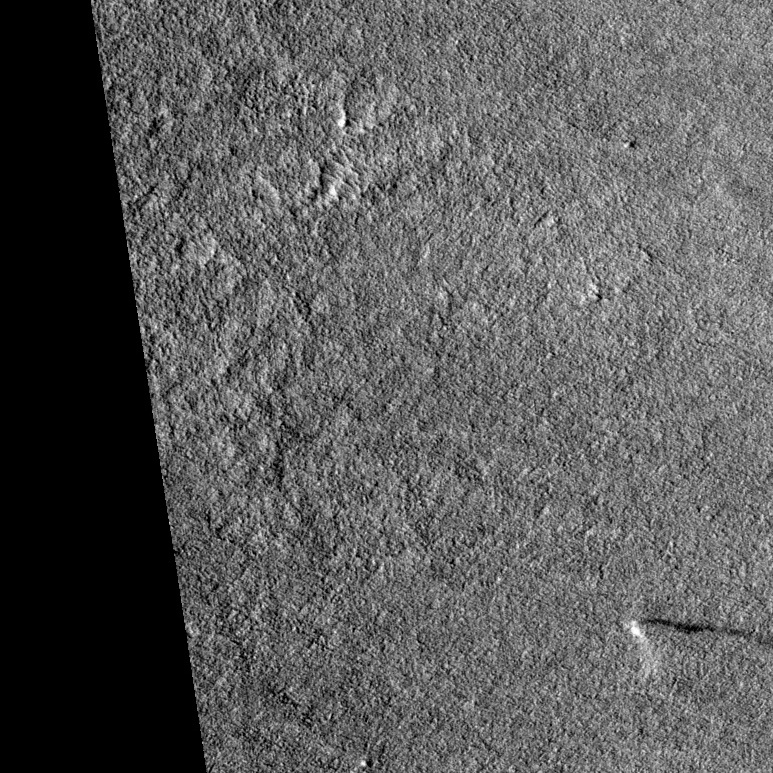dust_devil: (629, 617, 764, 676)
